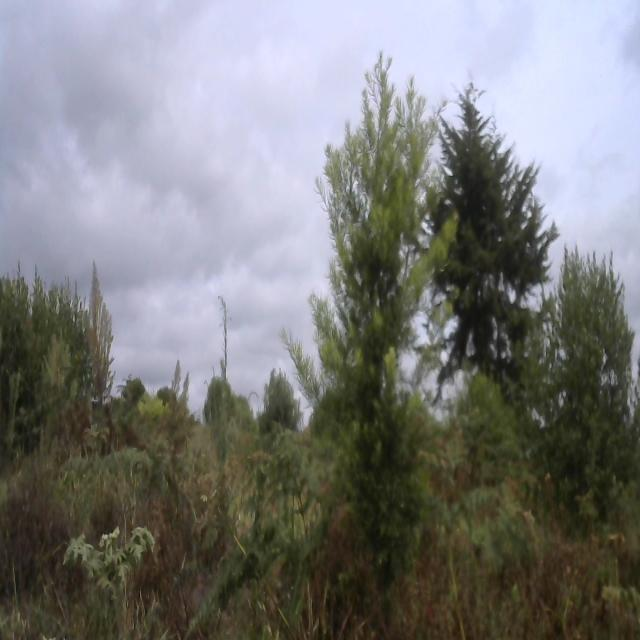Juniperus procesera: (435, 77, 558, 385)
Olea europea -africana-: (521, 256, 640, 501), (0, 266, 96, 451)
Podocarpus falcatus: (313, 44, 456, 592)
